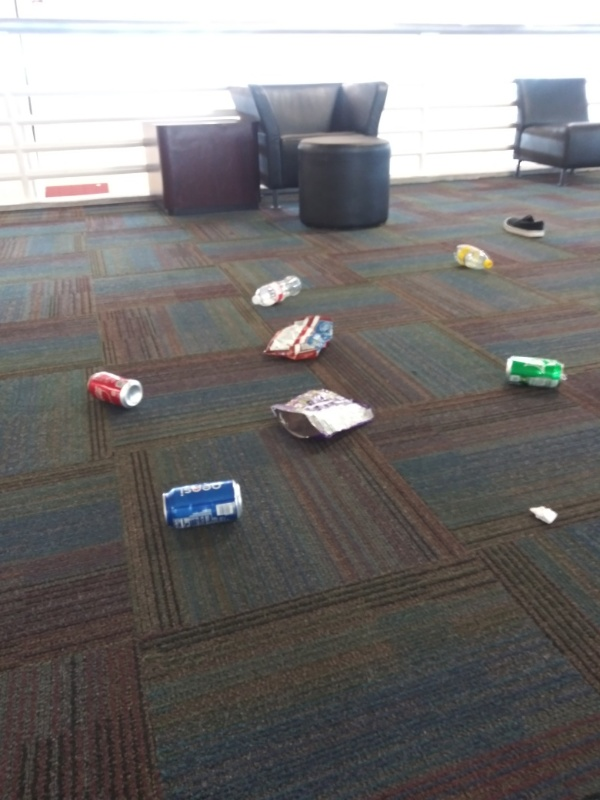bag: (268, 385, 378, 445), (262, 312, 343, 363)
bottle: (248, 269, 306, 311), (448, 239, 496, 275)
can: (157, 475, 254, 534), (80, 366, 147, 413), (499, 350, 571, 392)
